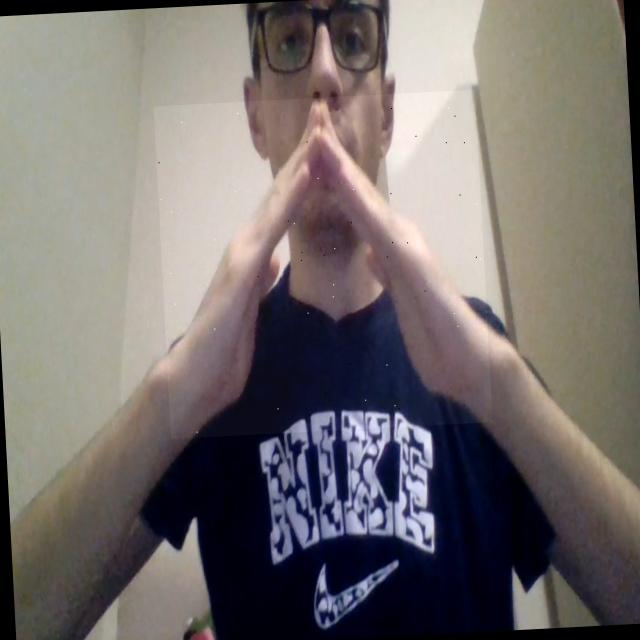house: (153, 90, 492, 439)
